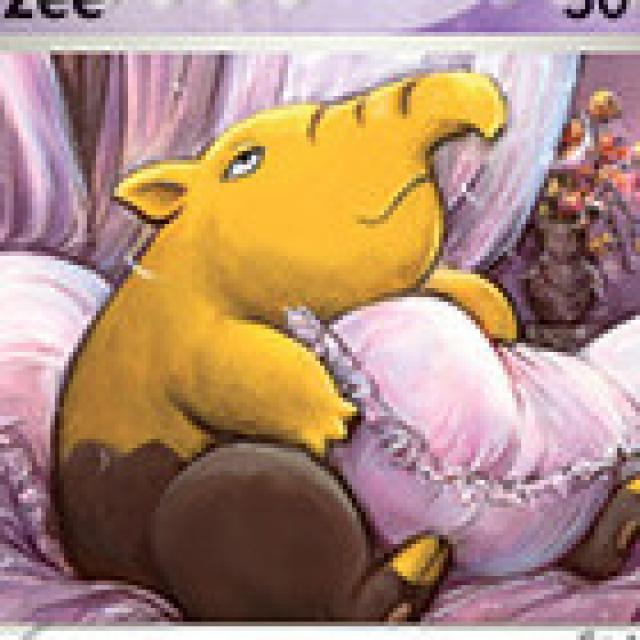Drowzee: (65, 71, 516, 619)
